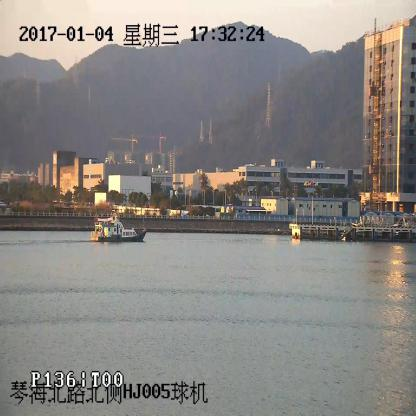Fishing Boat: (92, 212, 145, 242)
